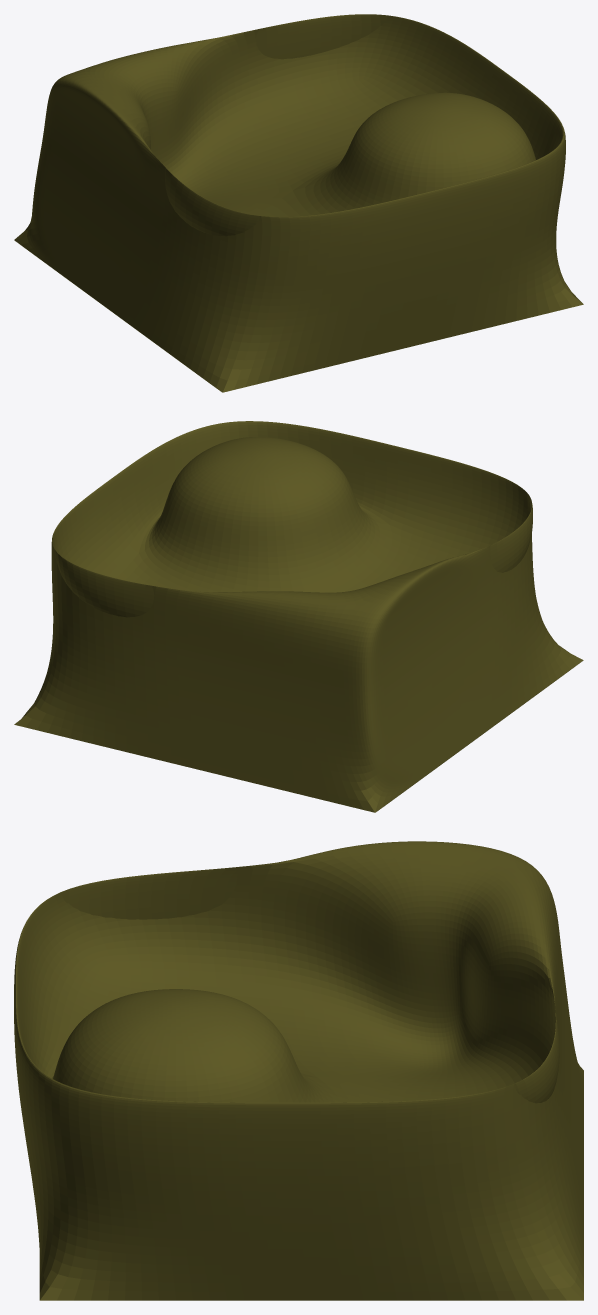
Rendered from terrain.fbx.
The picture shows the model from 3 angles, top to bottom: view 1: azimuth 30°, elevation 25°; view 2: azimuth 150°, elevation 25°; view 3: azimuth 270°, elevation 25°; orthographic projection. The views are drawn at different scales.
Parts seen in each view (by area): view 1: Cube; view 2: Cube; view 3: Cube.
Boxes of the visible parts, box(x1,y1,x2,y2) form: Cube: box(14, 14, 583, 392); Cube: box(14, 421, 583, 812); Cube: box(14, 841, 583, 1300).
Bounding box in the file's own units: 1424 × 665 × 1419.
